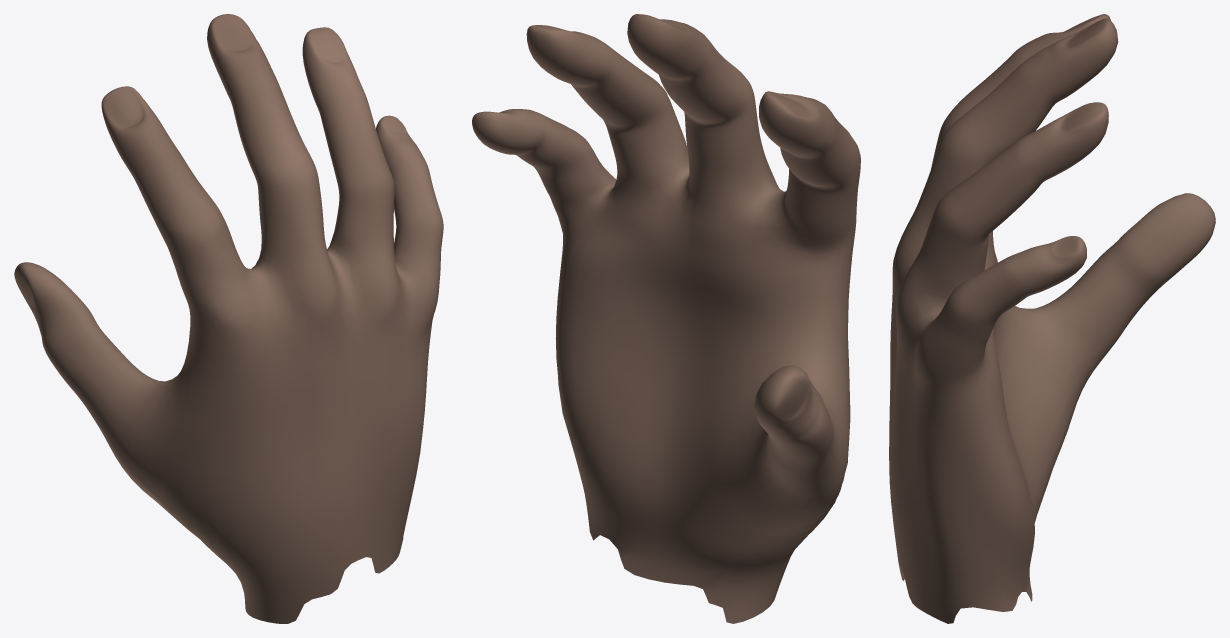
Rendered from player-hand-open.glb.
3 views of the same model, side by side, from view 1: azimuth 30°, elevation 25°; view 2: azimuth 150°, elevation 25°; view 3: azimuth 270°, elevation 25° (orthographic). The views are drawn at different scales.
Visible parts, largest first — view 1: player-hand-open.001; view 2: player-hand-open.001; view 3: player-hand-open.001.
Part boxes in pixels (box(x1,y1,x2,y2)): player-hand-open.001: box(14, 14, 443, 623); player-hand-open.001: box(472, 14, 860, 623); player-hand-open.001: box(889, 14, 1215, 623).
Bounding box in the file's own units: 0.1082 × 0.171 × 0.0857.
